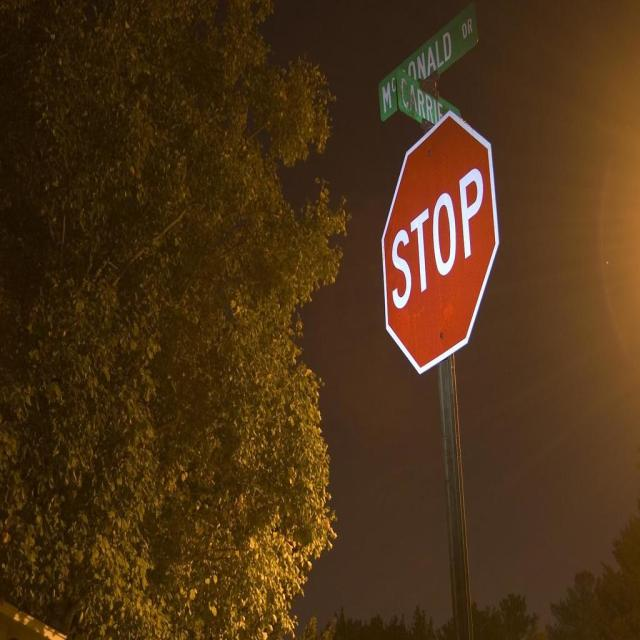Stop-sign: (380, 110, 500, 376)
